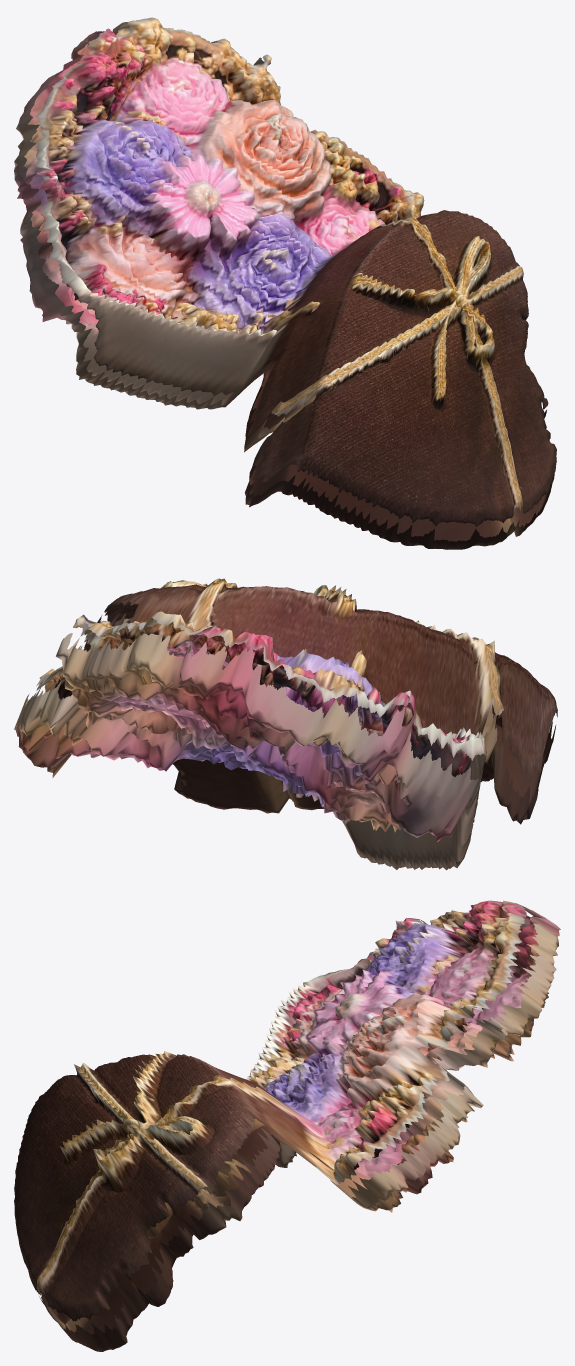
The model's file is 14-heart-flowers.glb.
The picture shows the model from 3 angles, top to bottom: view 1: azimuth 30°, elevation 25°; view 2: azimuth 150°, elevation 25°; view 3: azimuth 270°, elevation 25°; orthographic projection. The views are drawn at different scales.
Size of the model in its own units: 0.945 by 0.8564 by 1.19.
Materials: 1 (1 with a texture image).
